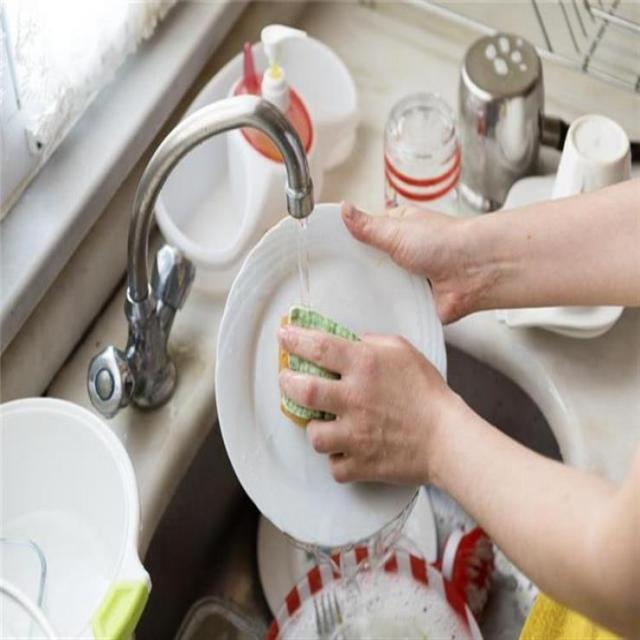Dish: (228, 213, 455, 551)
tap: (79, 98, 340, 503)
